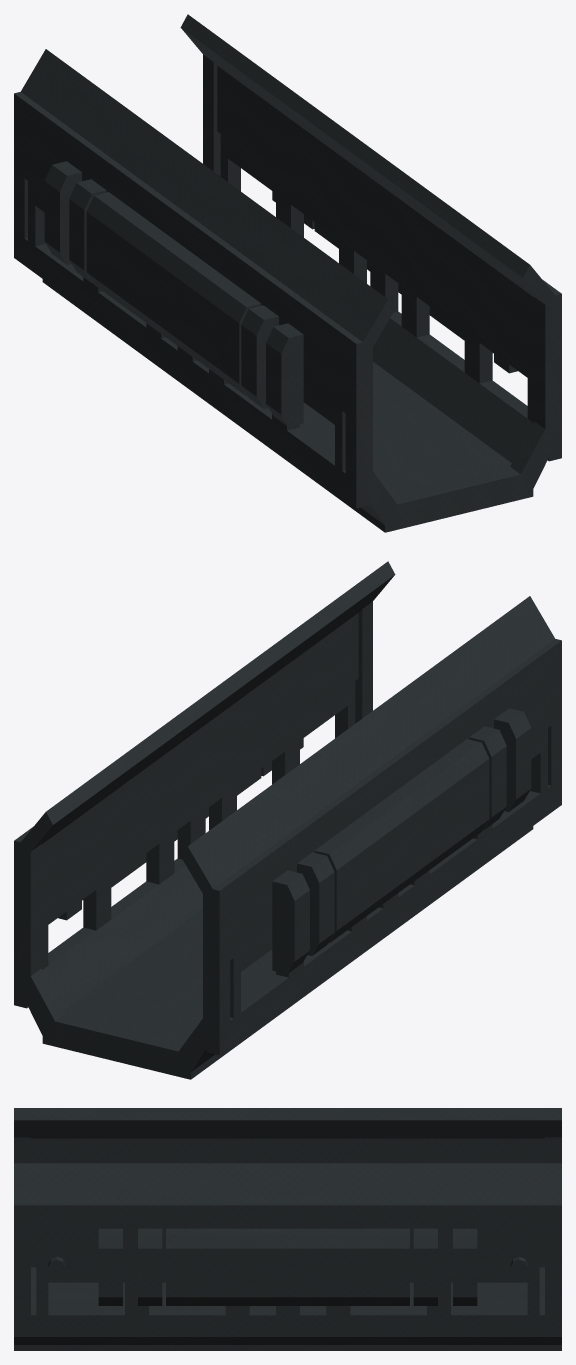
Rendered from rpk_rail.glb.
3 renders of one model, top to bottom at view 1: azimuth 30°, elevation 25°; view 2: azimuth 150°, elevation 25°; view 3: azimuth 270°, elevation 25°, orthographic. The views are drawn at different scales.
Parts seen in each view (by area): view 1: handguard__rpk_rail_LOD0_RAID_Secondary_Original_steel, handguard__rpk_rail_LOD1_RAID_Secondary_Original_steel; view 2: handguard__rpk_rail_LOD0_RAID_Secondary_Original_steel, handguard__rpk_rail_LOD1_RAID_Secondary_Original_steel; view 3: handguard__rpk_rail_LOD0_RAID_Secondary_Original_steel, handguard__rpk_rail_LOD1_RAID_Secondary_Original_steel.
Boxes of the visible parts, bbox=[...] form: handguard__rpk_rail_LOD0_RAID_Secondary_Original_steel: bbox=[14, 14, 561, 532]; handguard__rpk_rail_LOD1_RAID_Secondary_Original_steel: bbox=[29, 136, 534, 464]; handguard__rpk_rail_LOD0_RAID_Secondary_Original_steel: bbox=[14, 561, 561, 1079]; handguard__rpk_rail_LOD1_RAID_Secondary_Original_steel: bbox=[42, 682, 547, 1043]; handguard__rpk_rail_LOD0_RAID_Secondary_Original_steel: bbox=[14, 1108, 561, 1350]; handguard__rpk_rail_LOD1_RAID_Secondary_Original_steel: bbox=[37, 1228, 538, 1336].
Bounding box in the file's own units: 0.135 × 0.129 × 0.32.
Materials: 1 (1 with a texture image).
